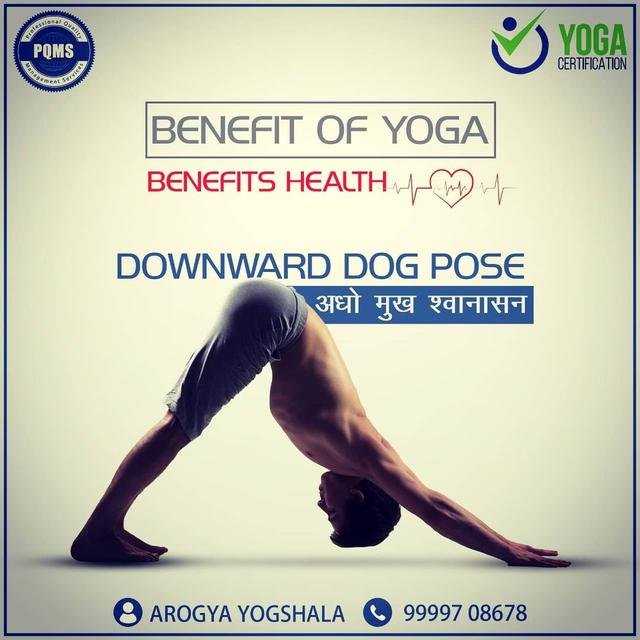Downward-Facing_Dog: (62, 272, 580, 574)
